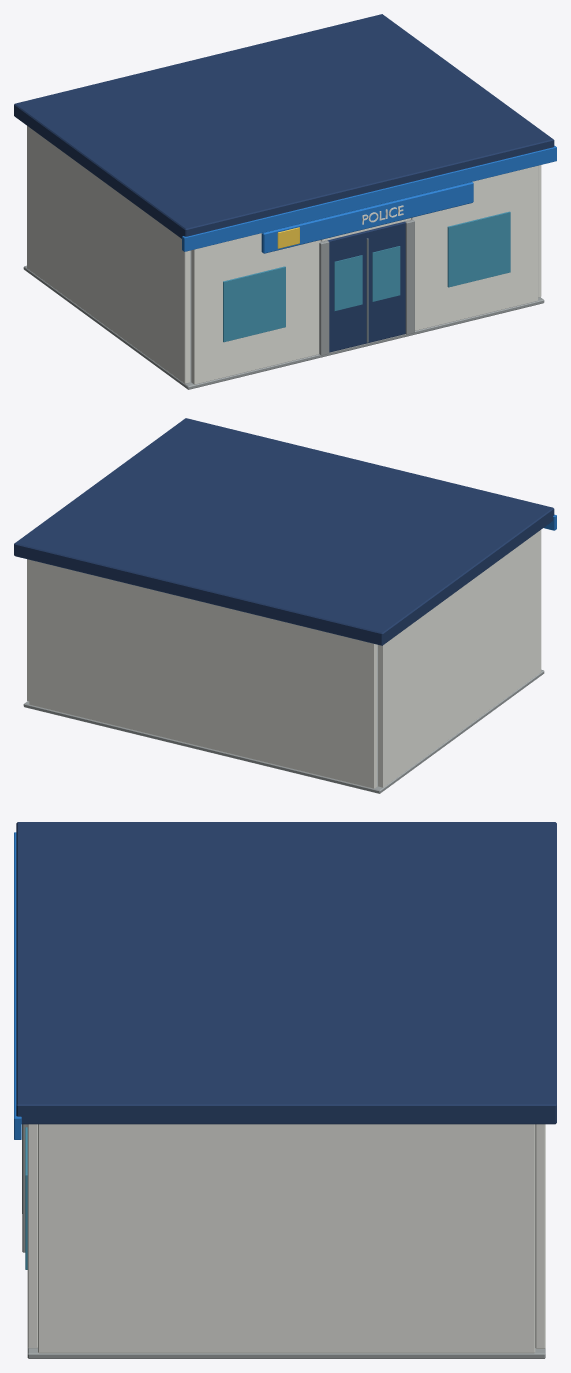
The model's file is Police.glb.
The picture shows the model from 3 angles, top to bottom: view 1: azimuth 30°, elevation 25°; view 2: azimuth 150°, elevation 25°; view 3: azimuth 270°, elevation 25°; orthographic projection. The views are drawn at different scales.
Visible parts, largest first — view 1: FTF_Building_SmallPoliceStation_10x8m_Mesh; view 2: FTF_Building_SmallPoliceStation_10x8m_Mesh; view 3: FTF_Building_SmallPoliceStation_10x8m_Mesh.
Part boxes in pixels (x1,y1,x2,y2): FTF_Building_SmallPoliceStation_10x8m_Mesh: (14, 14, 556, 389); FTF_Building_SmallPoliceStation_10x8m_Mesh: (14, 418, 556, 793); FTF_Building_SmallPoliceStation_10x8m_Mesh: (14, 822, 556, 1358).
Size of the model in its own units: 10.45 by 4.43 by 8.39.
